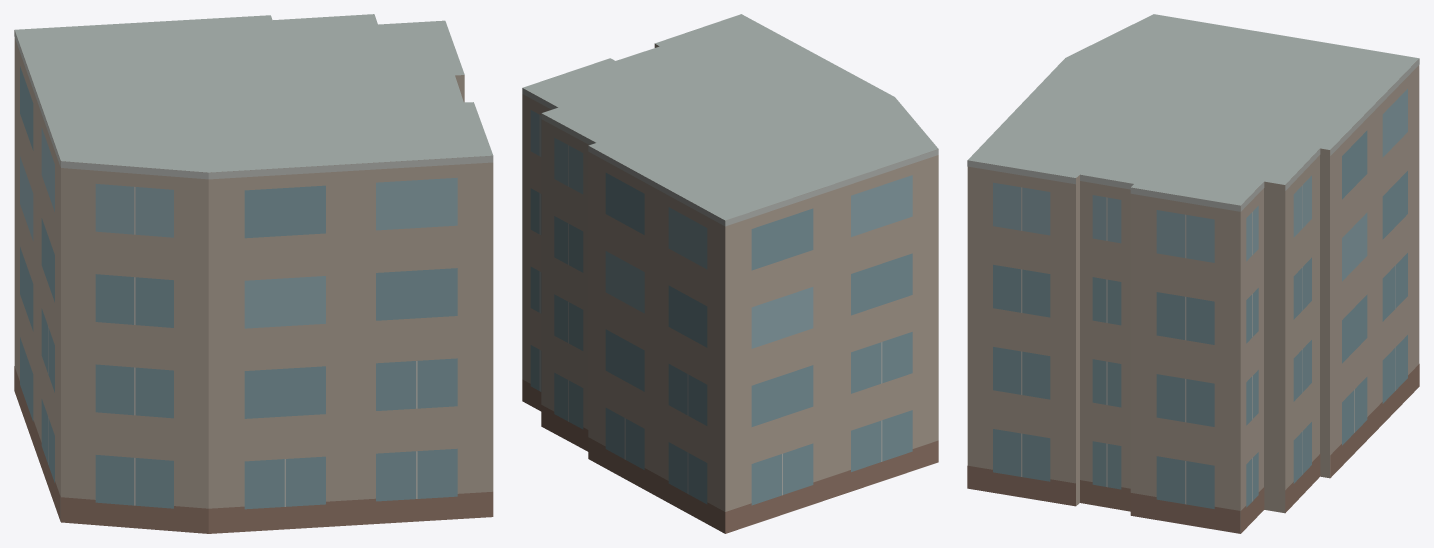
The model's file is survey-upis-32524995.glb.
The picture shows the model from 3 angles, left to right: view 1: azimuth 30°, elevation 25°; view 2: azimuth 150°, elevation 25°; view 3: azimuth 270°, elevation 25°; orthographic projection. The views are drawn at different scales.
Visible parts, largest first — view 1: survey-upis-32524995.tmp; view 2: survey-upis-32524995.tmp; view 3: survey-upis-32524995.tmp.
Part boxes in pixels (x1,y1,x2,y2): survey-upis-32524995.tmp: (14,14,493,533); survey-upis-32524995.tmp: (522,14,938,533); survey-upis-32524995.tmp: (967,14,1419,533).
Bounding box in the file's own units: 16.1 × 12.85 × 16.04.
